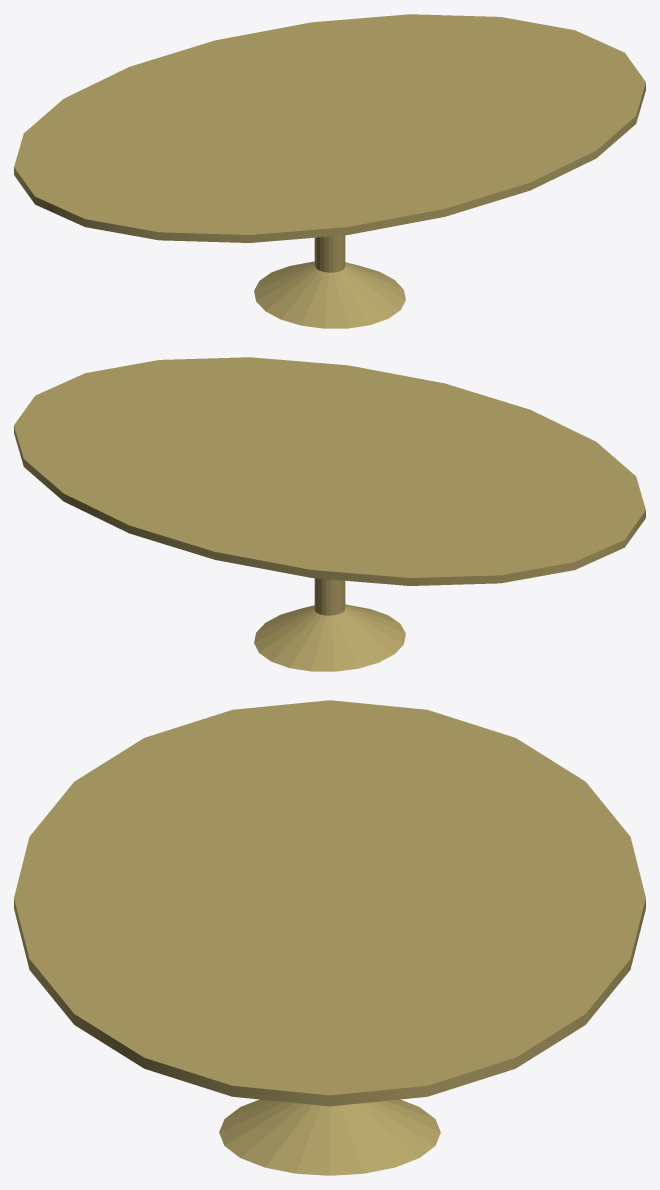
Rendered from Table_Yellow.fbx.
3 renders of one model, top to bottom at view 1: azimuth 30°, elevation 25°; view 2: azimuth 150°, elevation 25°; view 3: azimuth 270°, elevation 25°, orthographic. The views are drawn at different scales.
Visible parts, largest first — view 1: Table_Yellow; view 2: Table_Yellow; view 3: Table_Yellow.
Boxes of the visible parts, x1,y1,x2,y2 form: Table_Yellow: [14, 14, 645, 328]; Table_Yellow: [14, 357, 645, 671]; Table_Yellow: [14, 700, 645, 1175].
Size of the model in its own units: 3.94 by 1.09 by 2.66.
